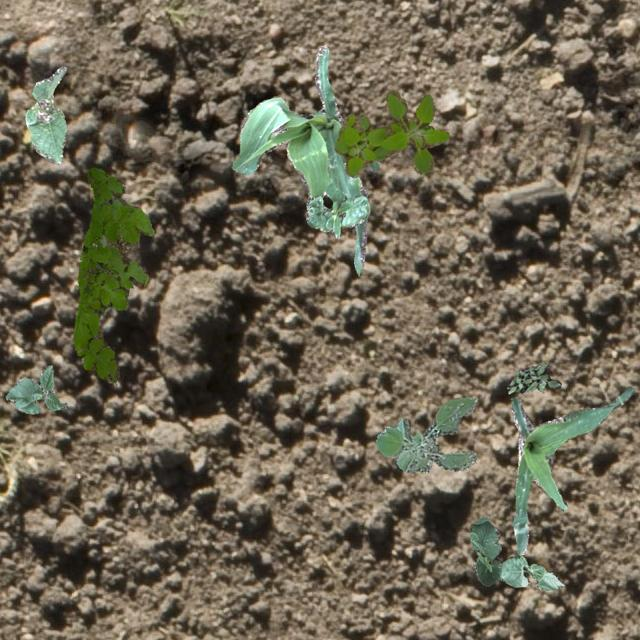crop: (230, 44, 378, 274), (510, 386, 632, 554), (24, 65, 66, 164), (4, 363, 66, 412), (306, 194, 366, 237), (498, 554, 562, 590), (468, 516, 501, 584)
weed: (72, 166, 152, 382), (333, 90, 448, 176), (376, 396, 476, 472), (506, 362, 560, 392)
